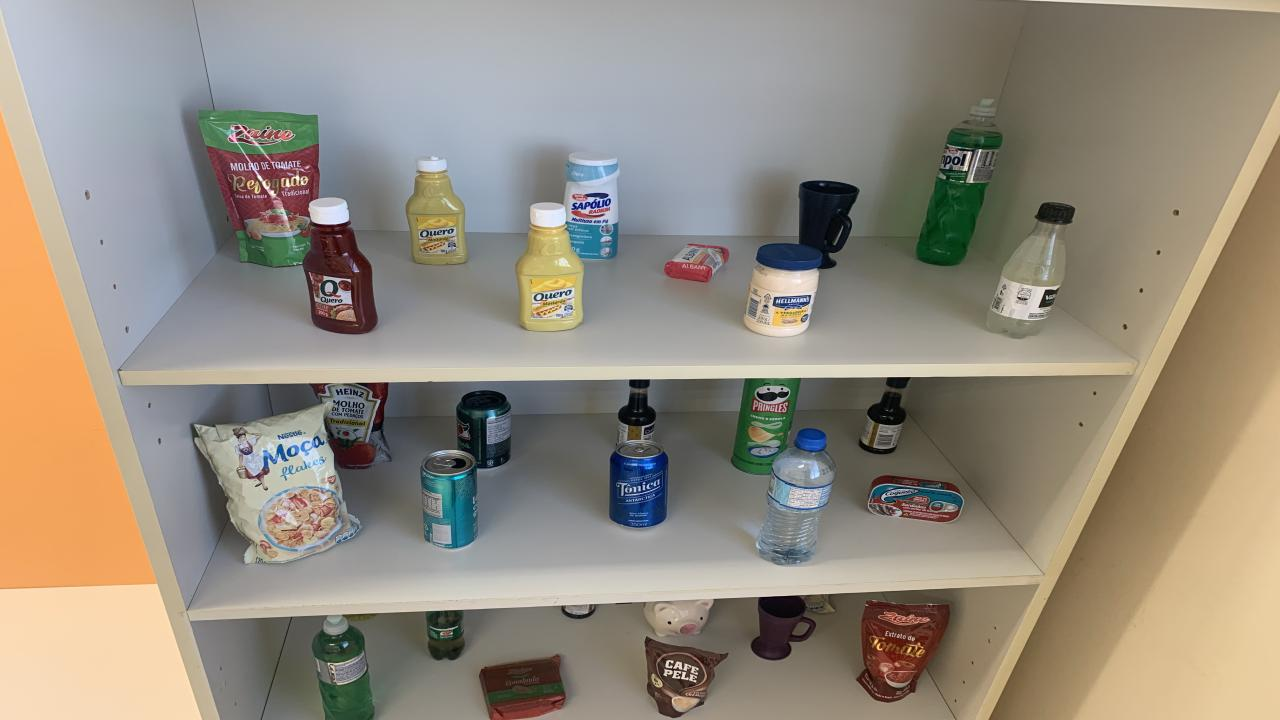Cleaner-Cleanup_Items: (565, 152, 620, 259)
Coffee-Pantry_Items: (645, 638, 728, 718)
Detergent-Cleanup_Items: (915, 98, 1002, 266), (312, 615, 375, 720)
English_Sauce-Pantry_Items: (860, 377, 910, 454), (618, 379, 655, 442), (560, 604, 598, 619)
Flakes-Snacks: (195, 403, 360, 562)
Guarana-Drinks: (425, 609, 465, 660)
Guarana_Can-Drinks: (458, 390, 510, 469)
Guava-Snacks: (480, 654, 568, 720)
Ketchup-Pantry_Items: (302, 197, 378, 334)
Mayonnaise-Pantry_Items: (745, 244, 822, 338)
Mustard-Pantry_Items: (515, 202, 582, 332), (405, 156, 468, 264)
Pig_Safe-Miscellaneous: (645, 600, 712, 636)
Pringles-Snacks: (732, 379, 800, 474)
Soap-Cleanup_Items: (665, 244, 730, 281)
Soda-Drinks: (988, 202, 1075, 338)
Tea-Drinks: (420, 450, 478, 549)
Tomato_Sauce-Pantry_Items: (198, 111, 320, 266), (858, 600, 950, 703), (312, 382, 392, 469)
Tonic-Drinks: (610, 441, 668, 529)
Tuna_Can-Pantry_Items: (868, 476, 965, 523)
Water_Bottle-Drinks: (755, 428, 835, 564)
